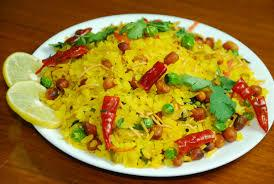poha: (35, 20, 274, 167)
